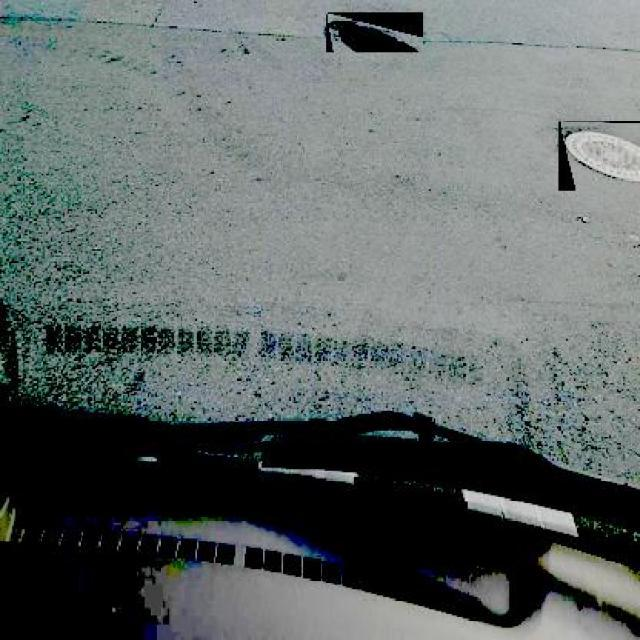Manhole: (558, 120, 640, 191)
Pothole: (326, 13, 423, 53)
